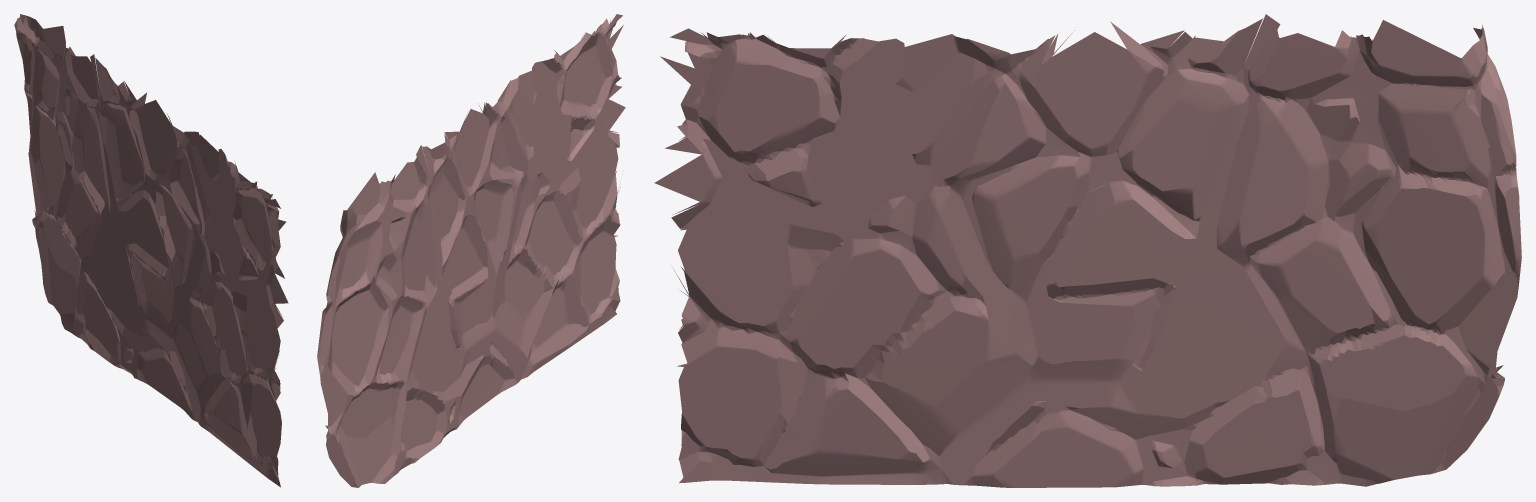
The model's file is cliff_area_2.fbx_Cliff_Area_2_020LODs.fbx.
3 renders of one model, left to right at view 1: azimuth 30°, elevation 25°; view 2: azimuth 150°, elevation 25°; view 3: azimuth 270°, elevation 25°, orthographic. The views are drawn at different scales.
Parts seen in each view (by area): view 1: Cliff Area 2.020_LOD0; view 2: Cliff Area 2.020_LOD0; view 3: Cliff Area 2.020_LOD0.
Boxes of the visible parts, x1=… form: Cliff Area 2.020_LOD0: x1=14, y1=14, x2=288, y2=487; Cliff Area 2.020_LOD0: x1=317, y1=14, x2=625, y2=487; Cliff Area 2.020_LOD0: x1=654, y1=14, x2=1521, y2=487.
Size of what is drawn, in the model's own units: 435 by 3926 by 6555.
